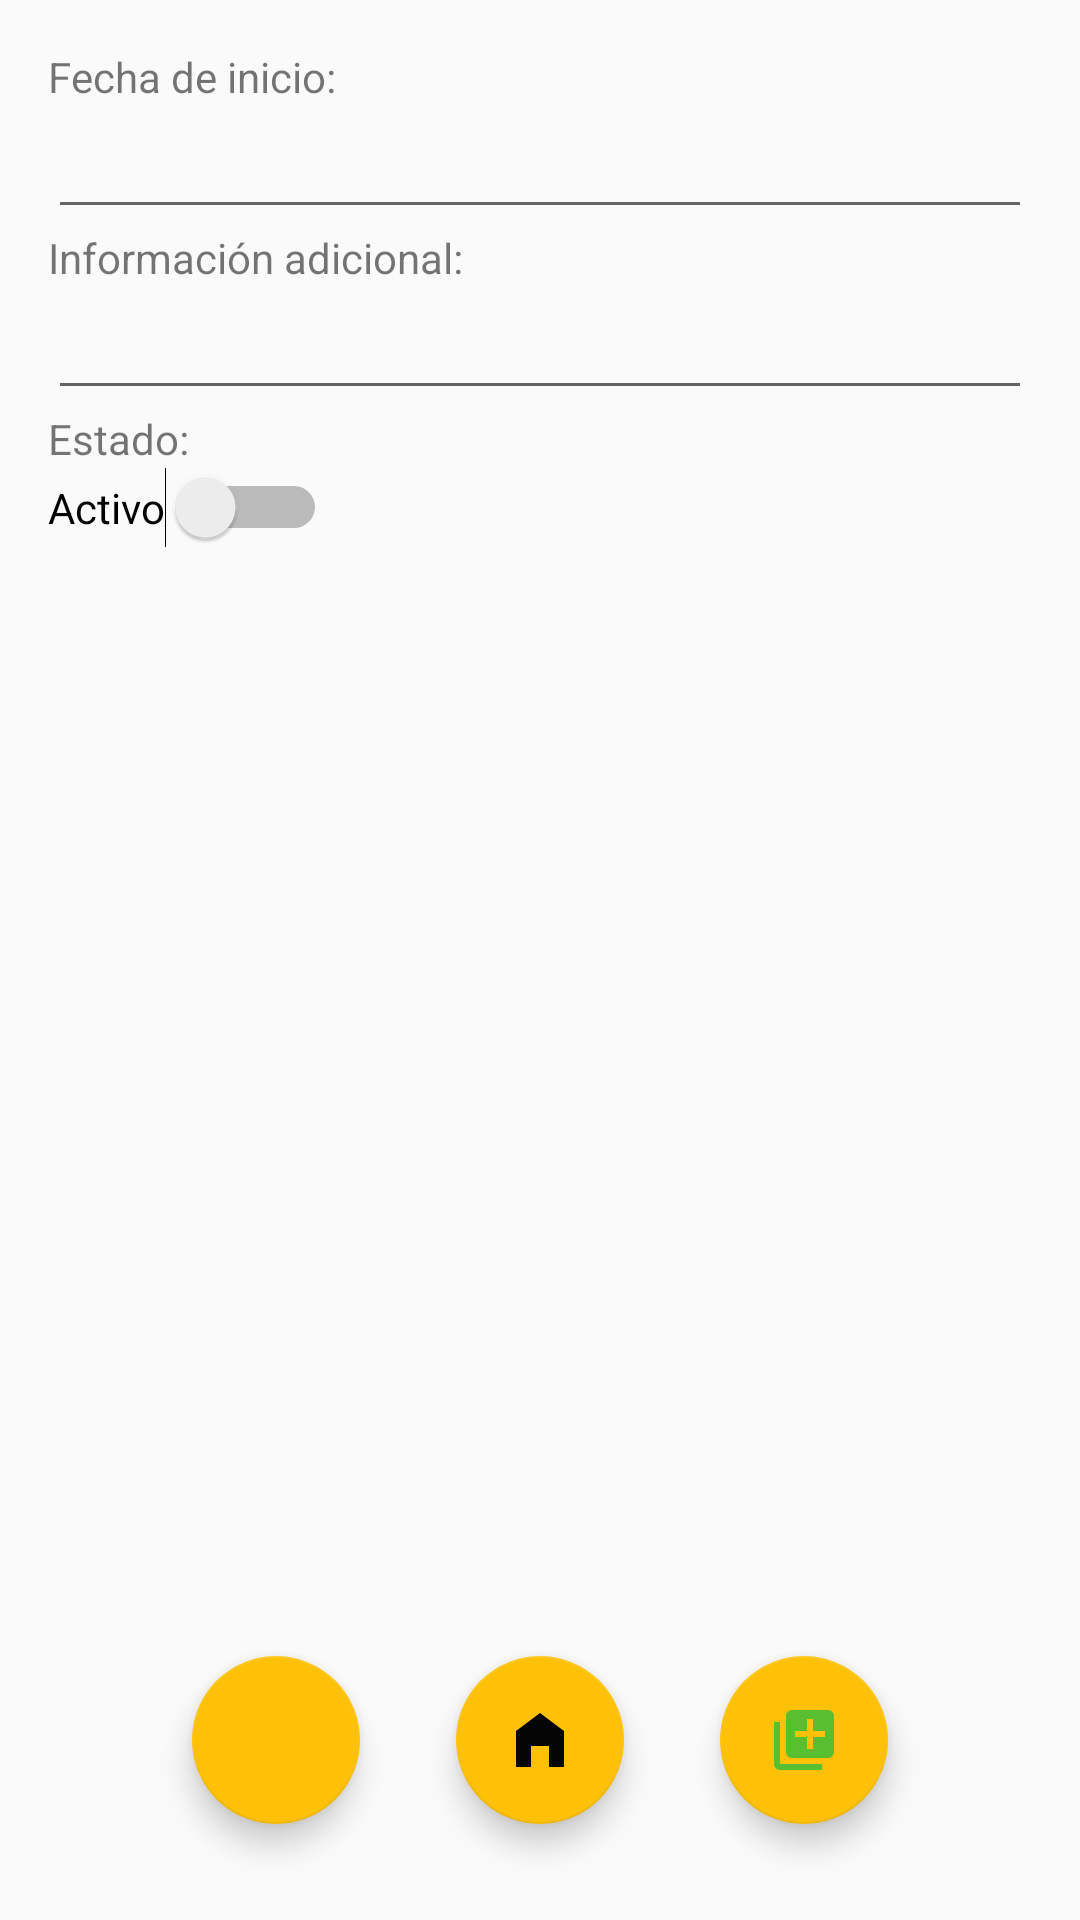

Locate icon controls on the screen. Image size 1080 × 1920, boxes as rect(x1, y1, x2, y2).
guardar: rect(720, 1656, 888, 1824)
home: rect(456, 1656, 624, 1824)
